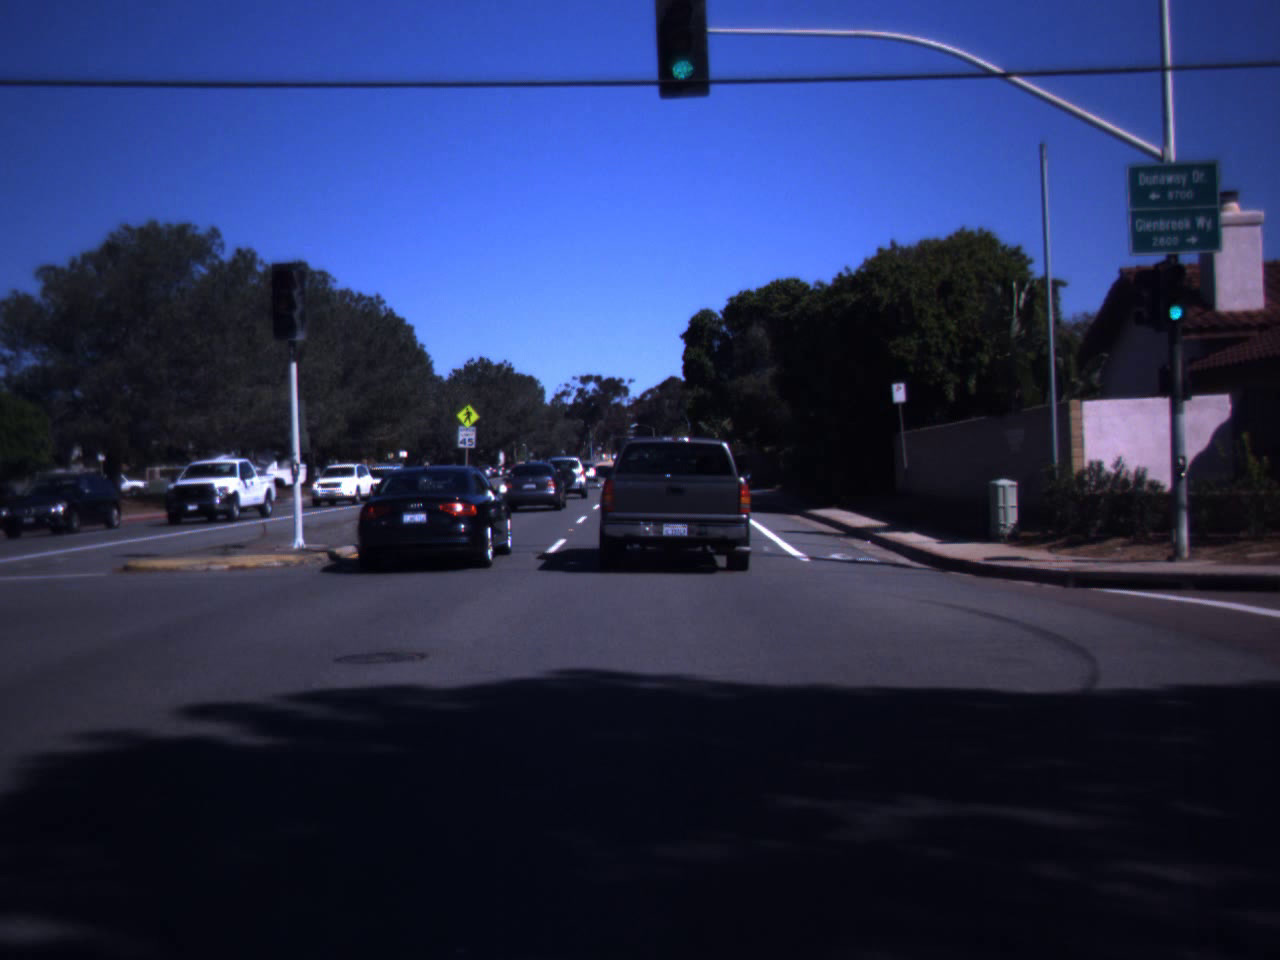go: (654, 0, 711, 66), (1173, 275, 1200, 320)
